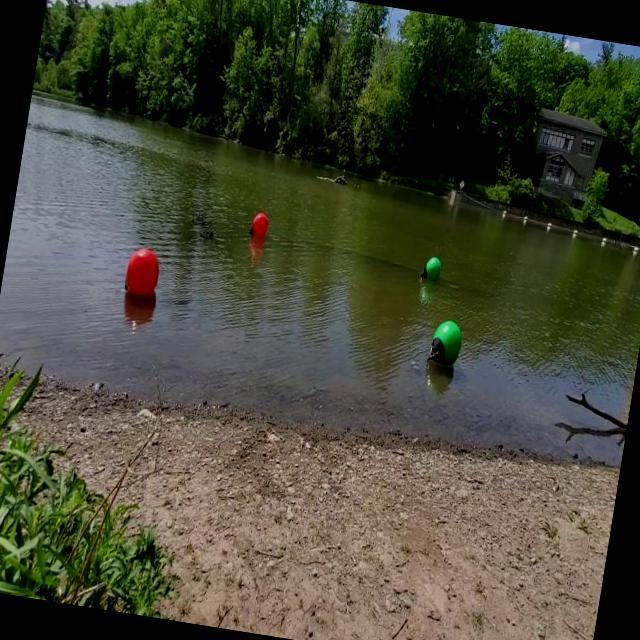buoy: (124, 246, 162, 297), (428, 318, 464, 368), (423, 255, 444, 282), (249, 212, 269, 238)
